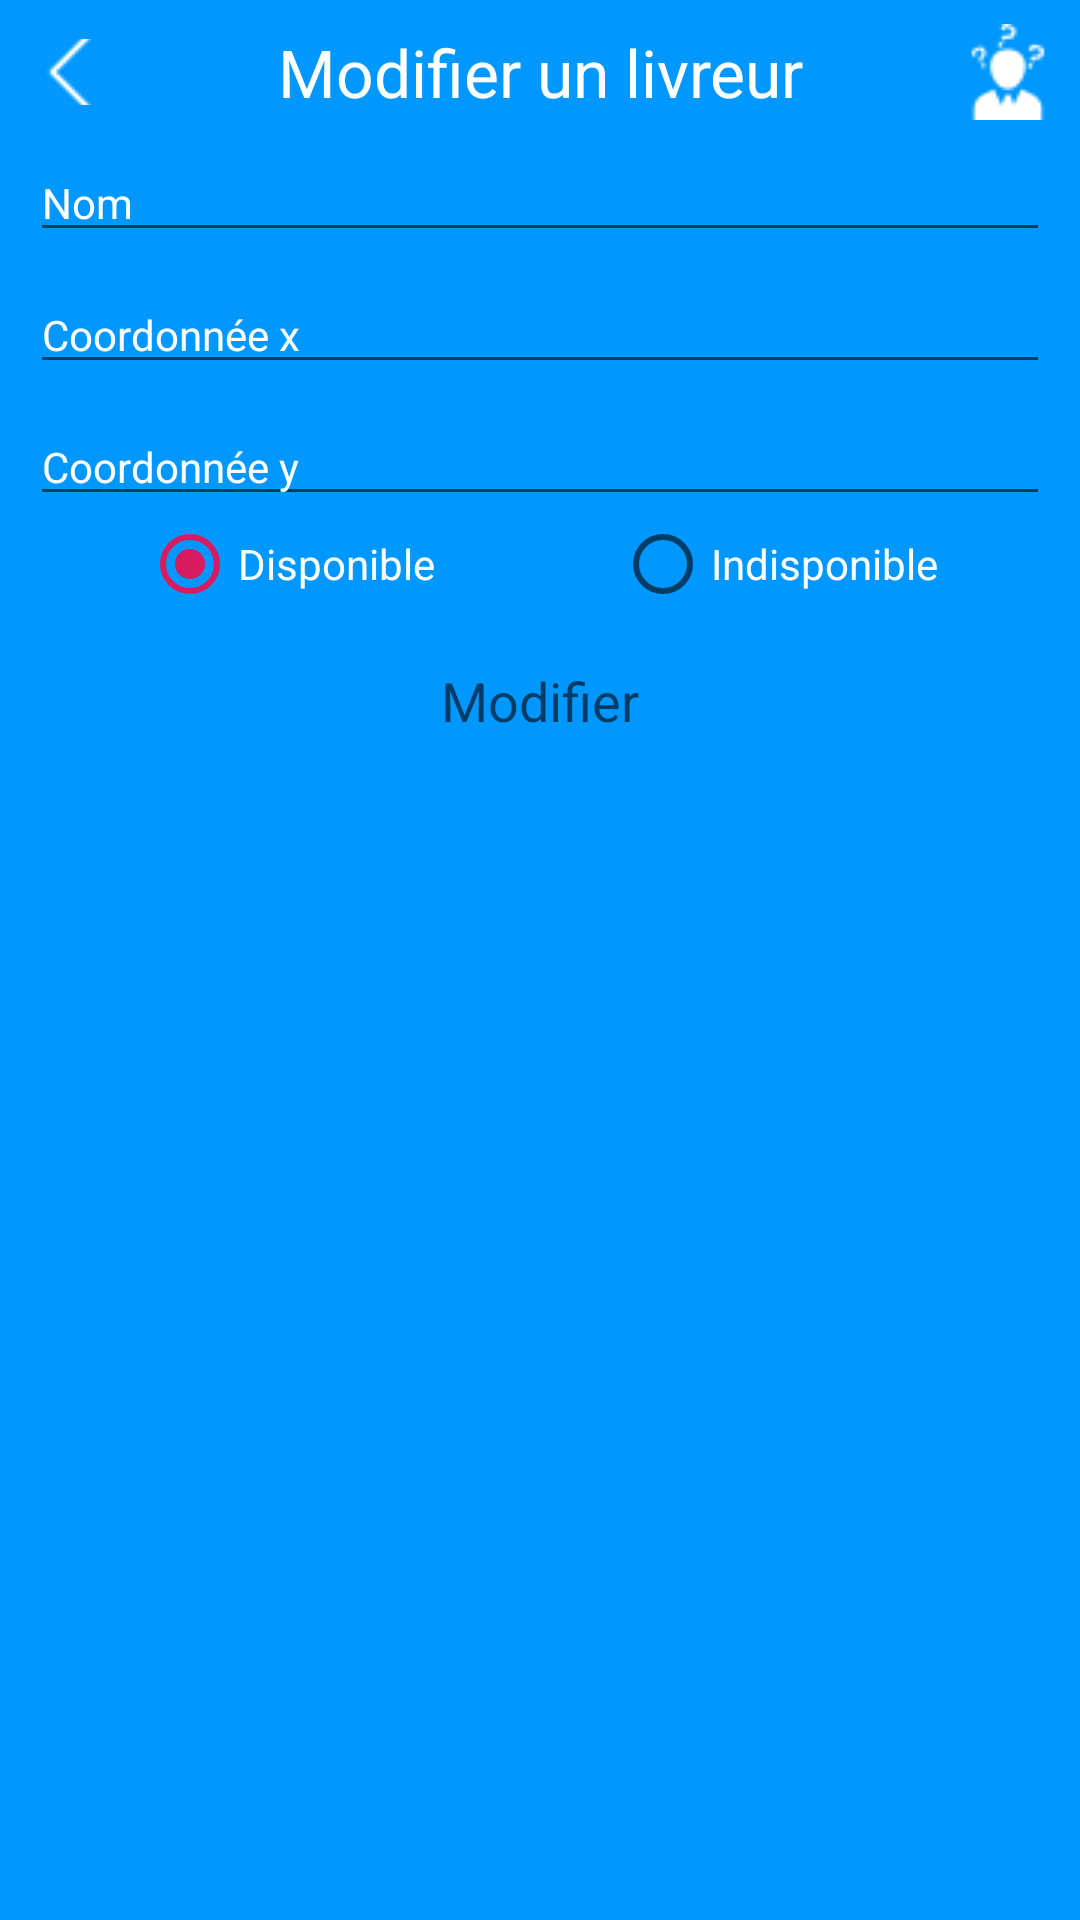

Icons on this 1080*1920 Android screen, each with the point to tap as point (x, y):
bouton de retour: point (70, 72)
faq: point (1008, 72)
